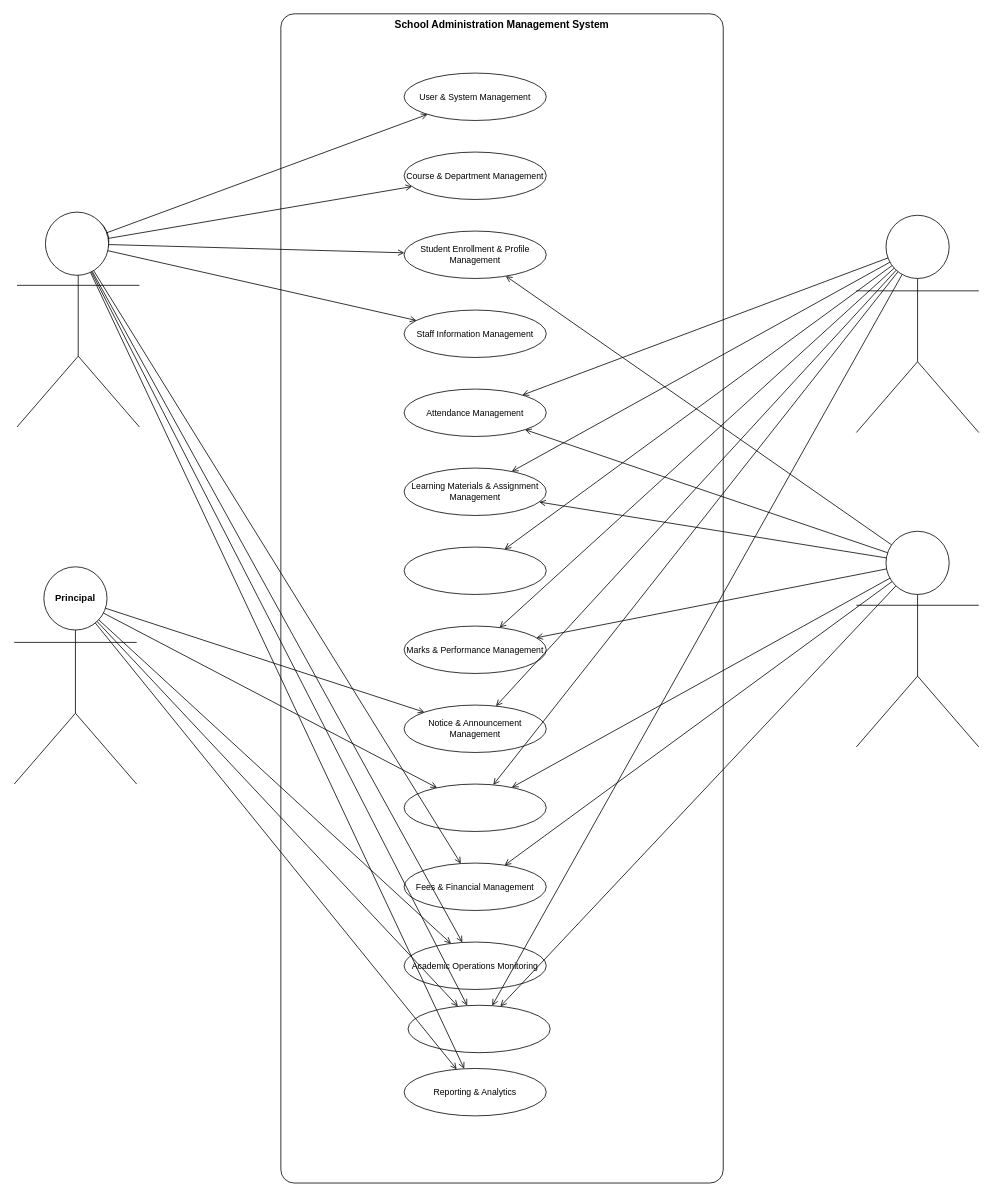
This 992x1197 diagram has some shape labels left out. Here are the shapes that lost their labels. From the top down, the centre of each, then its label:
At (x=77, y=243): "Admin".
At (x=917, y=246): "Teacher".
At (x=474, y=570): "Document Digitization & OCR".
At (x=917, y=562): "Student".
At (x=474, y=807): "Communication & Feedback".
At (x=478, y=1028): "Login / Logout".
